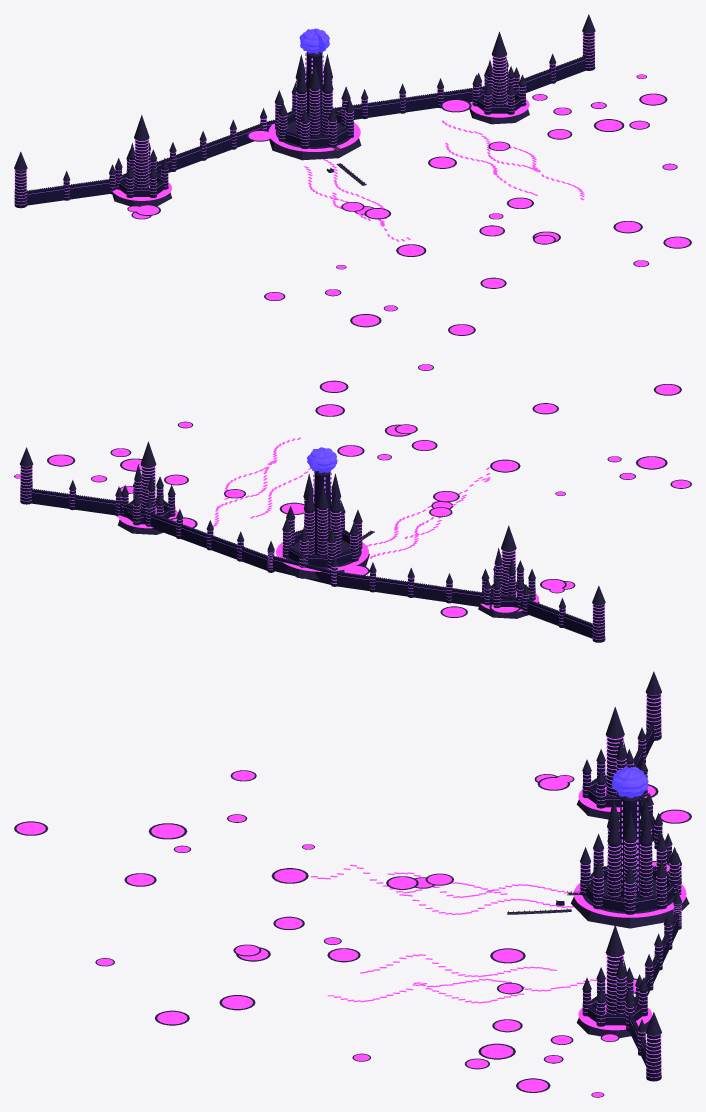
File: shaddai_void_citadel_v01.glb
3 renders of one model, top to bottom at view 1: azimuth 30°, elevation 25°; view 2: azimuth 150°, elevation 25°; view 3: azimuth 270°, elevation 25°, orthographic. The views are drawn at different scales.
Visible parts, largest first — view 1: citadel; view 2: citadel; view 3: citadel.
Boxes of the visible parts, x1,y1,x2,y2 form: citadel: [14, 14, 691, 335]; citadel: [14, 364, 691, 642]; citadel: [14, 671, 691, 1097].
Bounding box in the file's own units: 2892 × 554 × 2283.
